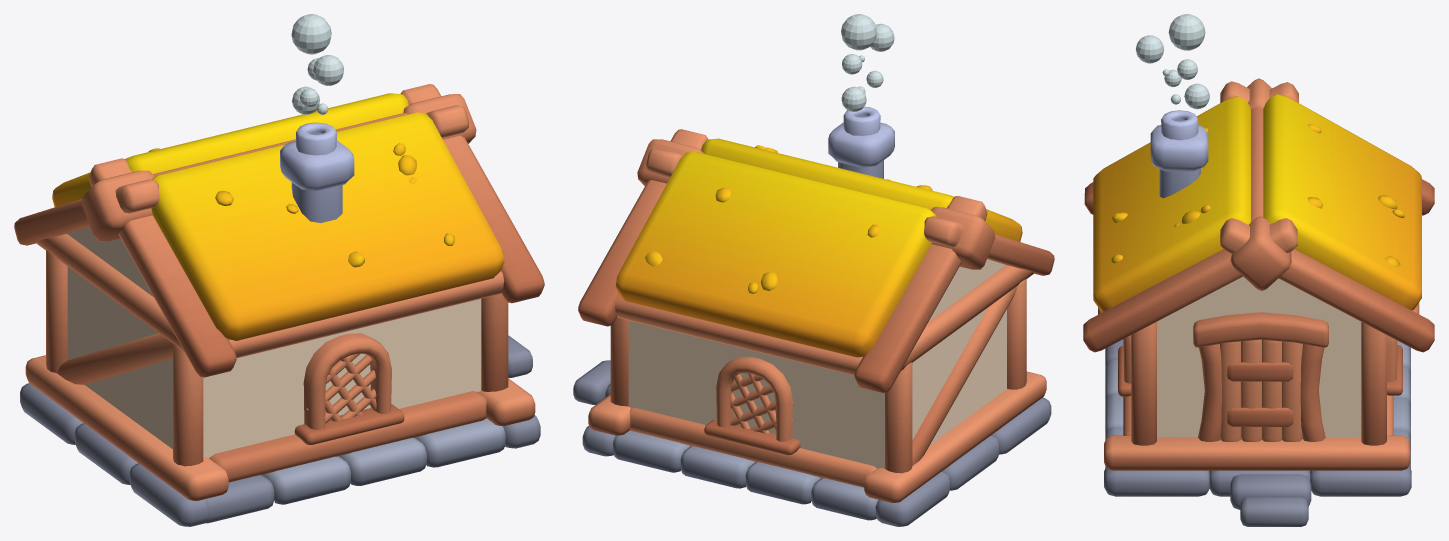
Rendered from FarmHouse.fbx.
3 views of the same model, side by side, from view 1: azimuth 30°, elevation 25°; view 2: azimuth 150°, elevation 25°; view 3: azimuth 270°, elevation 25° (orthographic). The views are drawn at different scales.
Parts seen in each view (by area): view 1: Cube.019, Plane.001, Plane, Cube.013, Cube.010, Cube.009, Cube.018, Cube.007, Cube.016, Plane.002, Cube.014, Cube.001 (+24 smaller); view 2: Cube.018, Plane.004, Plane, Cube.012, Cube.009, Cube.019, Cube.008, Cube.017, Cube.004, Cube.011, Cube.014, Plane.003 (+21 smaller); view 3: Cube.018, Cube.019, Plane.005, Cube.006, Cube.007, Cube.004, Cube.039, Cube.020, Cube.021, Cube.025, Cube.024, Cube.005 (+26 smaller).
Part boxes in pixels (x1,y1,x2,y2): Cube.019: (151, 112, 504, 340); Plane.001: (203, 299, 481, 458); Plane: (67, 226, 172, 449); Cube.013: (89, 158, 236, 377); Cube.010: (209, 391, 486, 482); Cube.009: (25, 355, 228, 500); Cube.018: (52, 93, 408, 206); Cube.007: (400, 84, 544, 303); Cube.016: (228, 271, 504, 358); Plane.002: (303, 333, 391, 429); Cube.014: (36, 234, 184, 351); Cube.001: (173, 343, 203, 466); Cube.018: (615, 151, 936, 357); Plane.004: (628, 320, 884, 478); Plane: (912, 259, 1006, 444); Cube.012: (854, 196, 987, 393); Cube.009: (864, 371, 1046, 502); Cube.019: (701, 138, 1022, 241); Cube.008: (629, 407, 876, 487); Cube.017: (615, 295, 862, 375); Cube.004: (578, 129, 708, 326); Cube.011: (912, 287, 1016, 465); Cube.014: (901, 265, 1034, 370); Plane.003: (716, 356, 792, 441); Cube.018: (1263, 94, 1421, 310); Cube.019: (1093, 96, 1250, 311); Plane.005: (1157, 276, 1361, 437); Cube.006: (1104, 435, 1410, 470); Cube.007: (1083, 218, 1297, 352); Cube.004: (1220, 218, 1434, 352); Cube.039: (1193, 312, 1328, 347); Cube.020: (1131, 322, 1156, 445); Cube.021: (1361, 322, 1386, 445); Cube.025: (1104, 467, 1209, 496); Cube.024: (1310, 466, 1411, 496); Cube.005: (1230, 216, 1291, 290).
Size of the model in its own units: 3535 by 3490 by 2738.
Materials: 1 (1 with a texture image).
